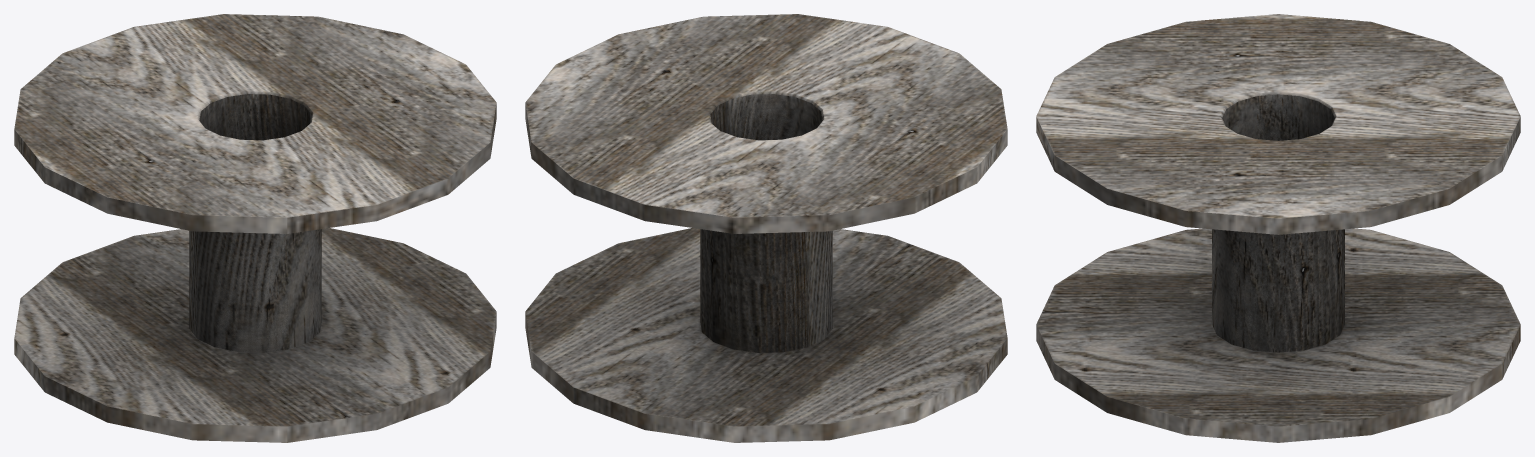
The model's file is WoodSpool.obj.
3 renders of one model, left to right at view 1: azimuth 30°, elevation 25°; view 2: azimuth 150°, elevation 25°; view 3: azimuth 270°, elevation 25°, orthographic.
Visible parts, largest first — view 1: WoodSpool; view 2: WoodSpool; view 3: WoodSpool.
Part boxes in pixels (x1,y1,x2,y2): WoodSpool: [14, 14, 496, 442]; WoodSpool: [525, 14, 1007, 442]; WoodSpool: [1036, 14, 1520, 442].
Bounding box in the file's own units: 6.12 × 3.13 × 6.12.
